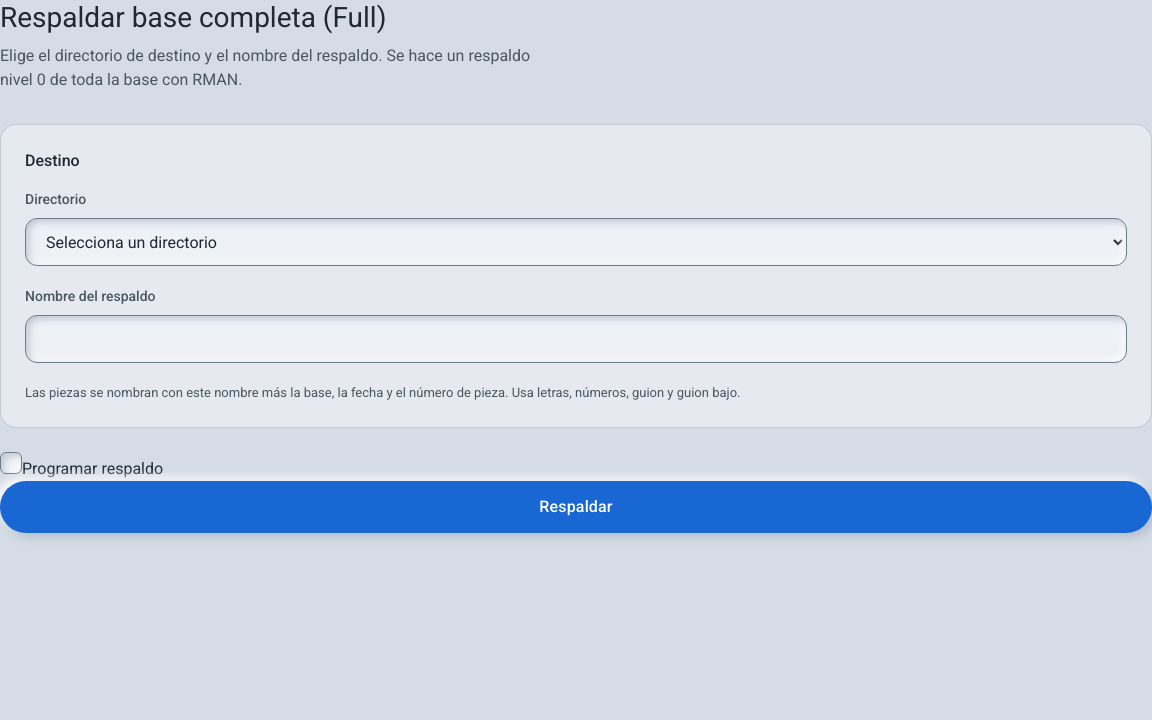
Test case: programar respaldo › al marcarlo muestra el formulario y el botón pasa a «Programar»
Click the checkbox labelled "Programar respaldo" at (11, 462), box [0,452,22,474]
(page scrolled)
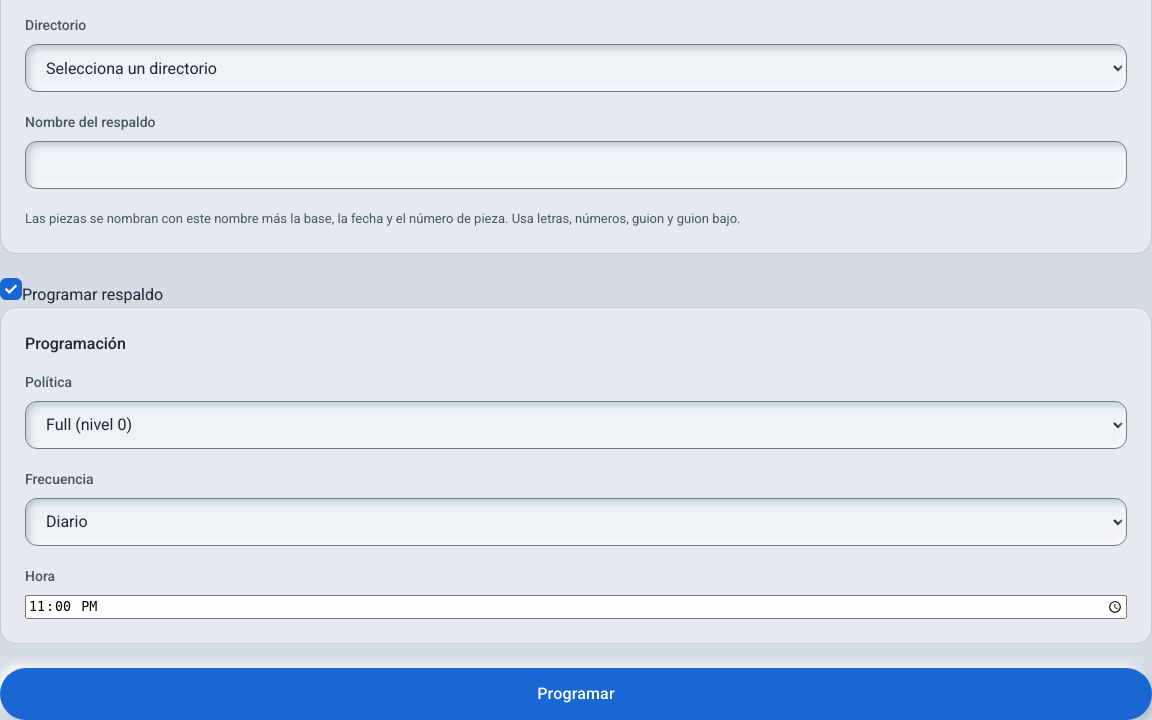
Check: the dropdown labelled "Política" is shown, box [25,400,1127,448]
Check: the dropdown labelled "Frecuencia" is shown, box [25,498,1127,546]
Check: the time field labelled "Hora" is shown, box [25,594,1127,618]
